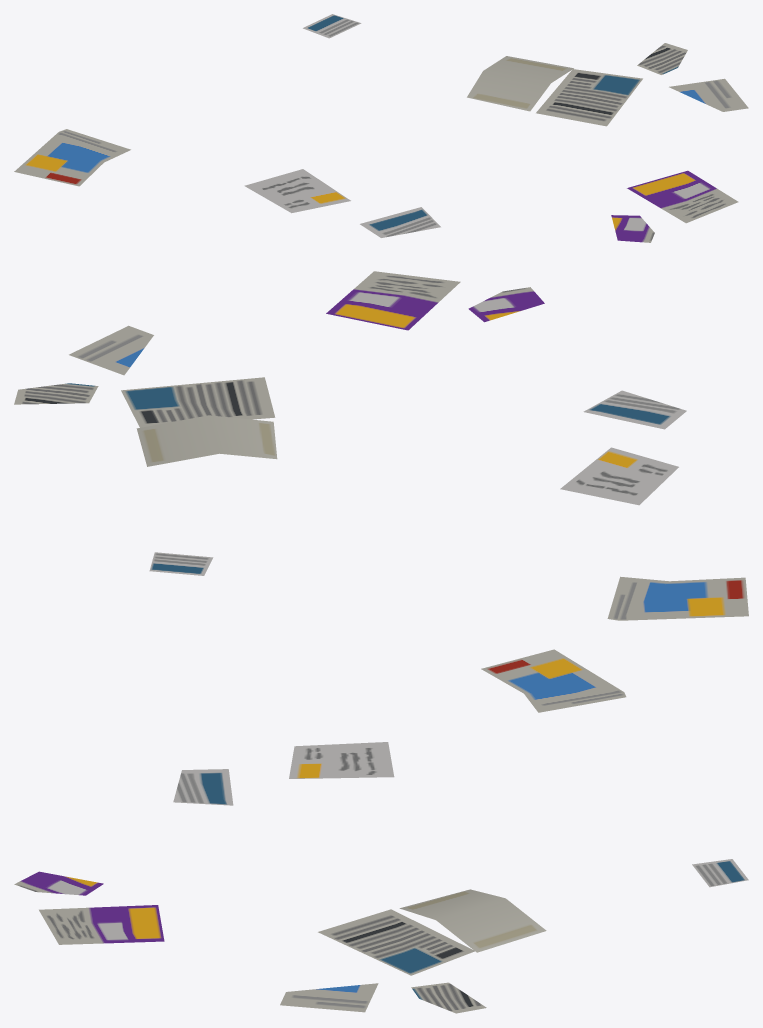
The model's file is SM_Props_Papers_01.fbx.
3 renders of one model, top to bottom at view 1: azimuth 30°, elevation 25°; view 2: azimuth 150°, elevation 25°; view 3: azimuth 270°, elevation 25°, orthographic. The views are drawn at different scales.
Visible parts, largest first — view 1: SM_Props_Papers_01; view 2: SM_Props_Papers_01; view 3: SM_Props_Papers_01.
Boxes of the visible parts, x1=… form: SM_Props_Papers_01: x1=14, y1=14, x2=748, y2=242; SM_Props_Papers_01: x1=14, y1=271, x2=748, y2=620; SM_Props_Papers_01: x1=14, y1=649, x2=748, y2=1013.
Size of the model in its own units: 268 by 3.45 by 230.
